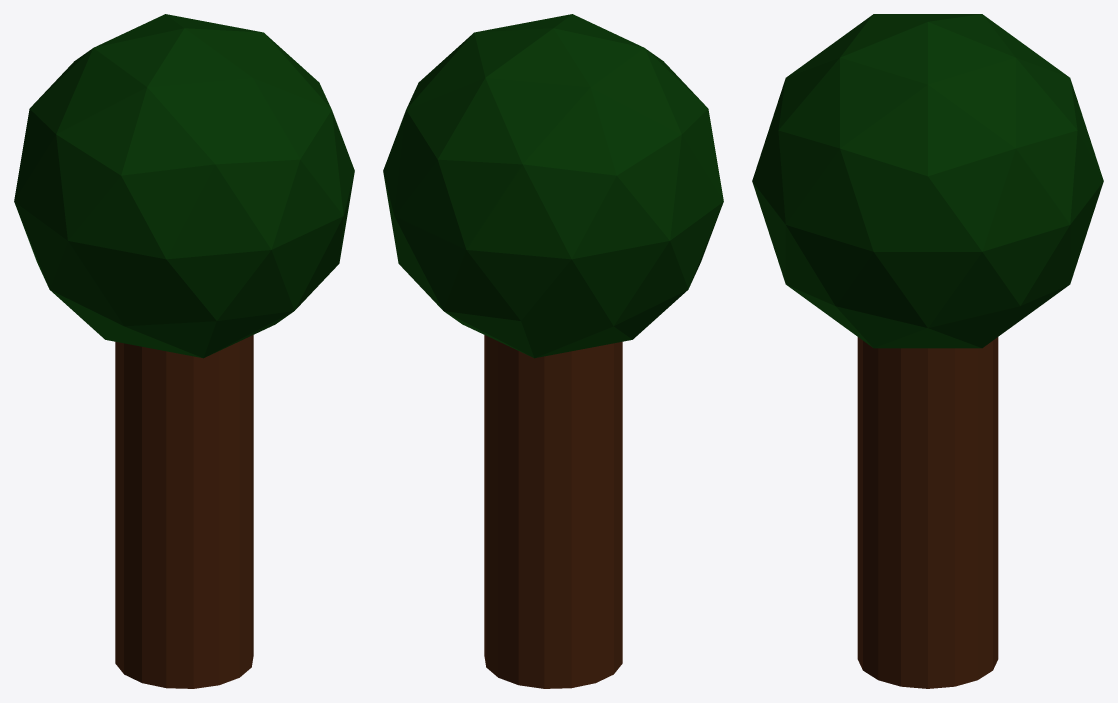
3 renders of one model, left to right at view 1: azimuth 30°, elevation 25°; view 2: azimuth 150°, elevation 25°; view 3: azimuth 270°, elevation 25°, orthographic.
Parts seen in each view (by area): view 1: tree2.005_Cylinder.007; view 2: tree2.005_Cylinder.007; view 3: tree2.005_Cylinder.007.
Part boxes in pixels (x1,y1,x2,y2): tree2.005_Cylinder.007: (14, 14, 354, 688); tree2.005_Cylinder.007: (383, 14, 723, 688); tree2.005_Cylinder.007: (752, 14, 1103, 688).
Bounding box in the file's own units: 1.9 × 4 × 2.
